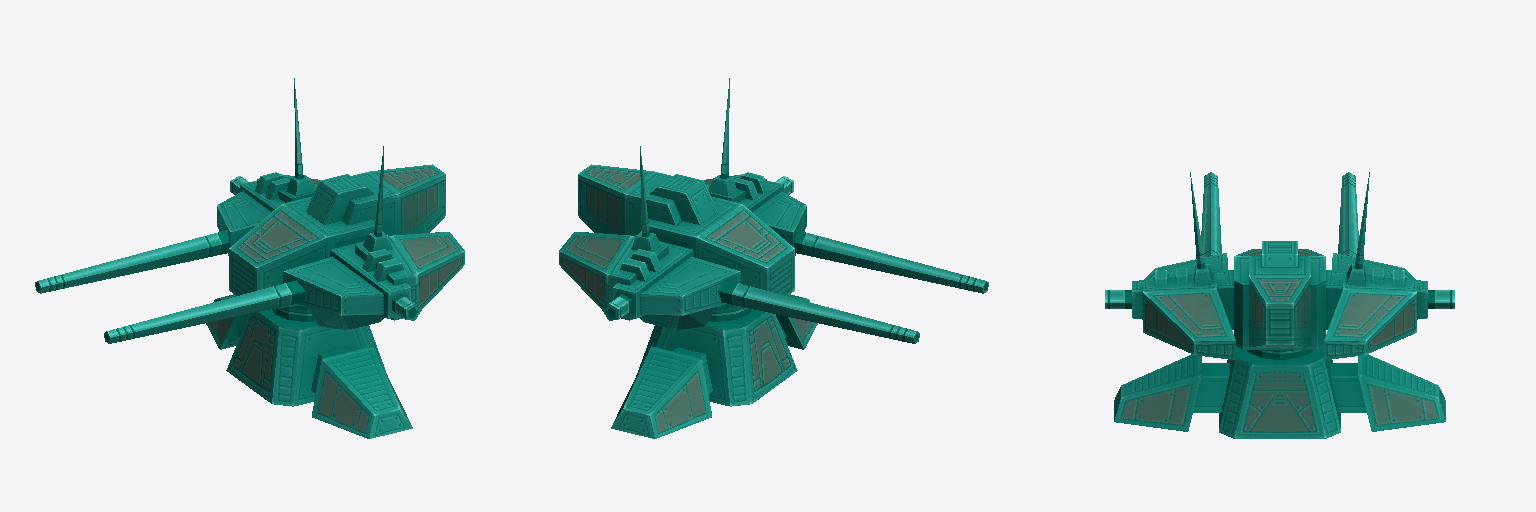
3 views of the same model, side by side, from view 1: azimuth 30°, elevation 25°; view 2: azimuth 150°, elevation 25°; view 3: azimuth 270°, elevation 25° (orthographic).
Size of the model in its own units: 68.55 by 46.39 by 56.72.
1 materials, 1 textured.